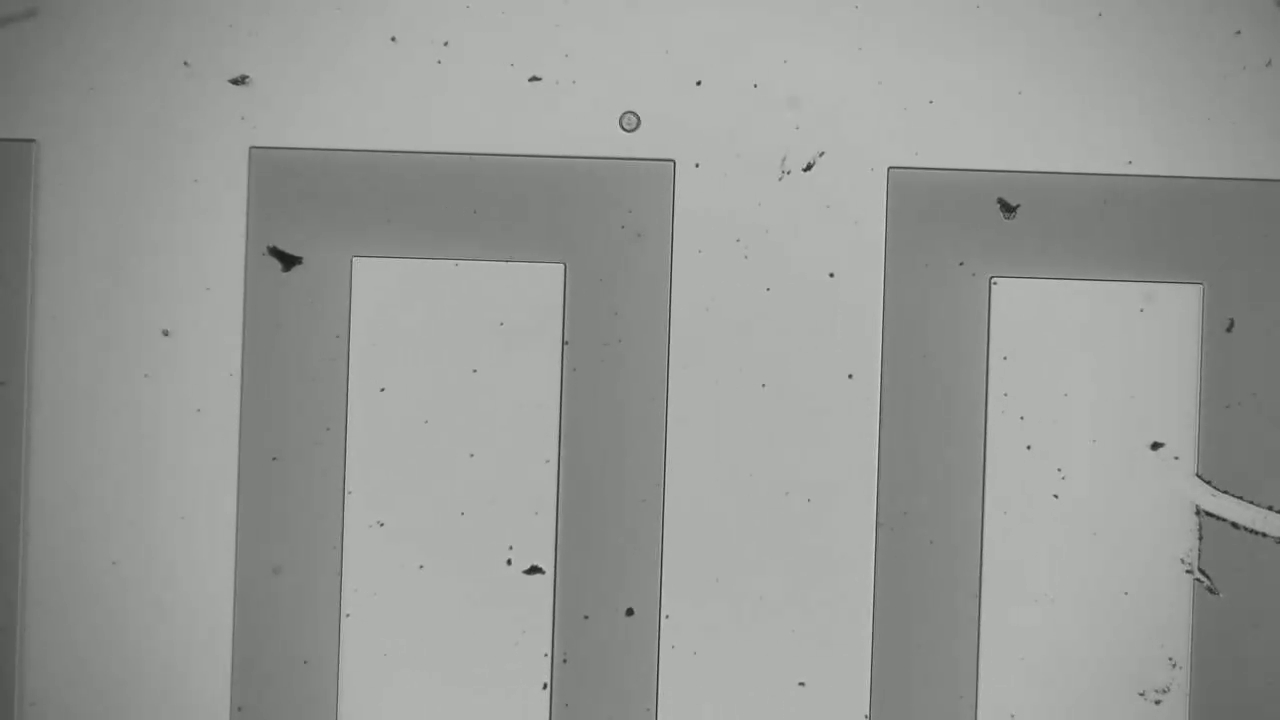Short_circuit: (1166, 441, 1280, 559)
